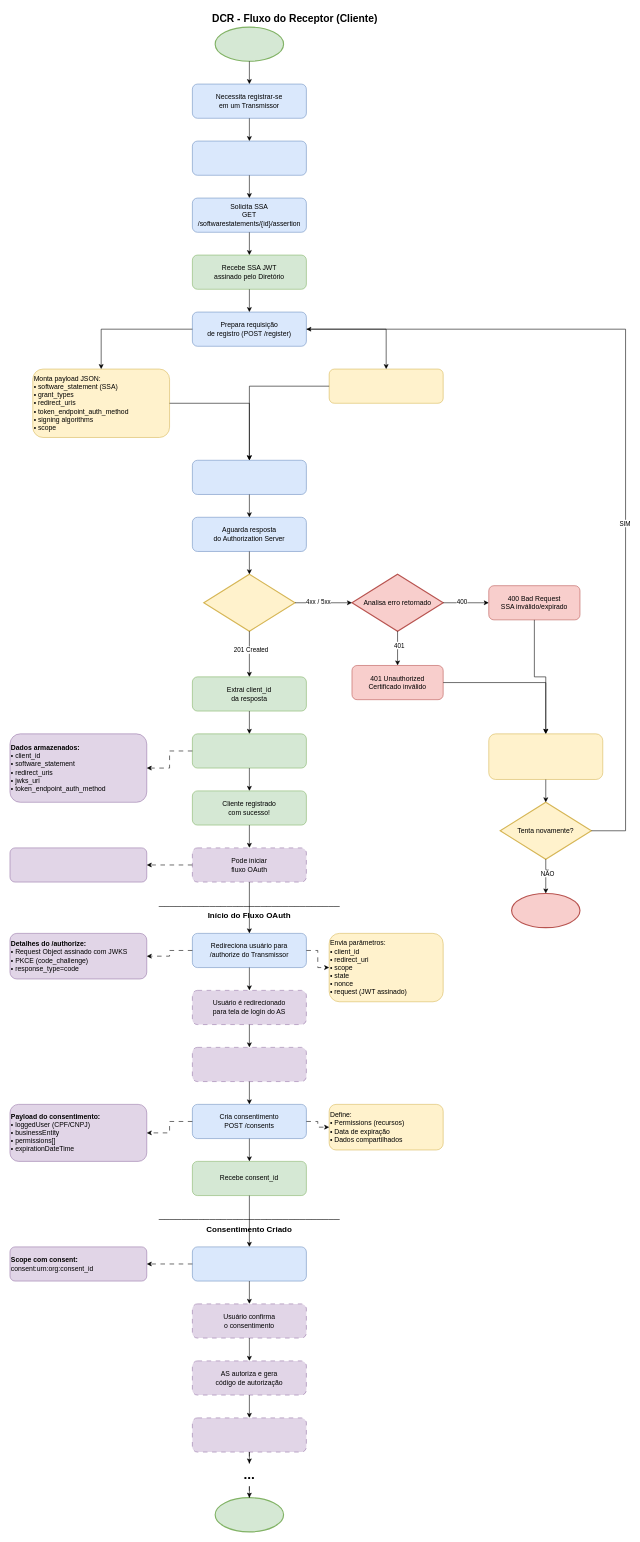
The diagram is 640 pixels wide and 1542 high, and some of its shapes have lost their labels. The shapes that lost their labels are listed below. From the top down, each one's box as (x1, y1, x2, y2) in pixels, then its label:
(214, 26, 284, 62): INÍCIO
(192, 141, 306, 175): Autentica-se no Diretório Open Finance
(329, 369, 443, 403): Configura certificado mTLS para autenticação
(192, 460, 306, 494): Envia POST /register com SSA + mTLS
(203, 573, 295, 632): Status da resposta?
(192, 733, 306, 768): Armazena client_id e metadados localmente
(488, 733, 603, 779): Trata erro: • Valida certificado • Renova SSA se expirado • Corrige metadados
(9, 847, 147, 882): Próximo passo: Authorization Code Flow
(511, 893, 580, 928): FIM (Falha)
(192, 1047, 306, 1082): Usuário autentica, AS valida identidade
(192, 1246, 306, 1281): Redireciona com consent_id para novo /authorize
(192, 1417, 306, 1452): Recebe código no redirect_uri e troca por tokens
(214, 1497, 284, 1532): FIM (Sucesso)
